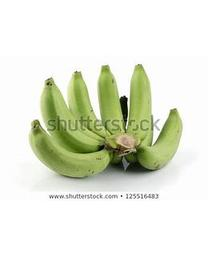banana: (29, 64, 184, 179)
